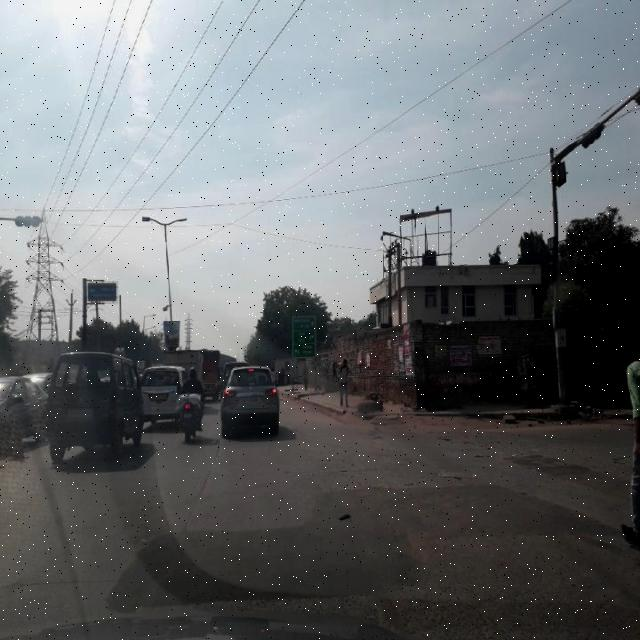D01: (185, 446, 219, 532)
